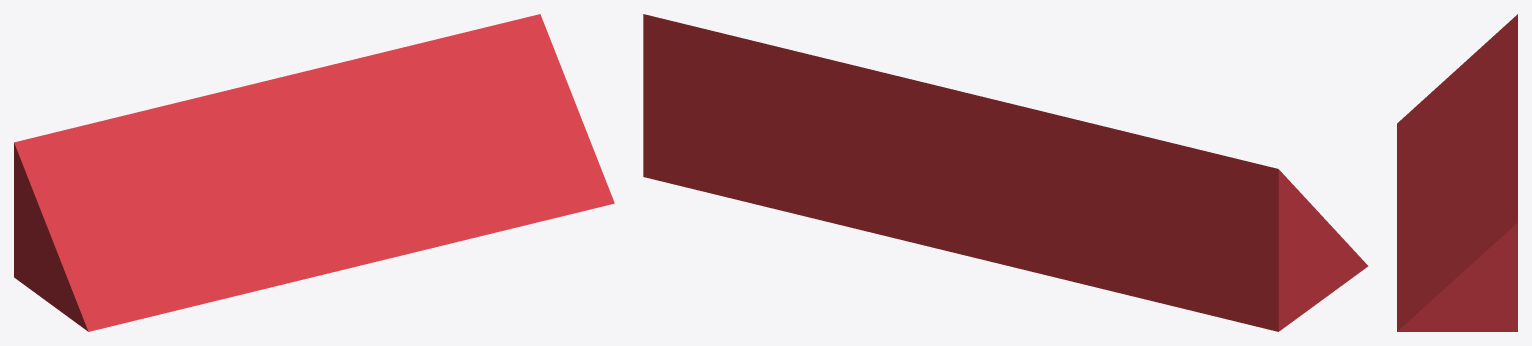
Rendered from bay_roof_4.glb.
3 renders of one model, left to right at view 1: azimuth 30°, elevation 25°; view 2: azimuth 150°, elevation 25°; view 3: azimuth 270°, elevation 25°, orthographic. The views are drawn at different scales.
Parts seen in each view (by area): view 1: bay_roof_4; view 2: bay_roof_4; view 3: bay_roof_4.
Part boxes in pixels (<box>): bay_roof_4: <box>14,14,614,331</box>; bay_roof_4: <box>643,14,1368,331</box>; bay_roof_4: <box>1397,14,1517,331</box>.
Bounding box in the file's own units: 1.22 × 0.3 × 0.3.
